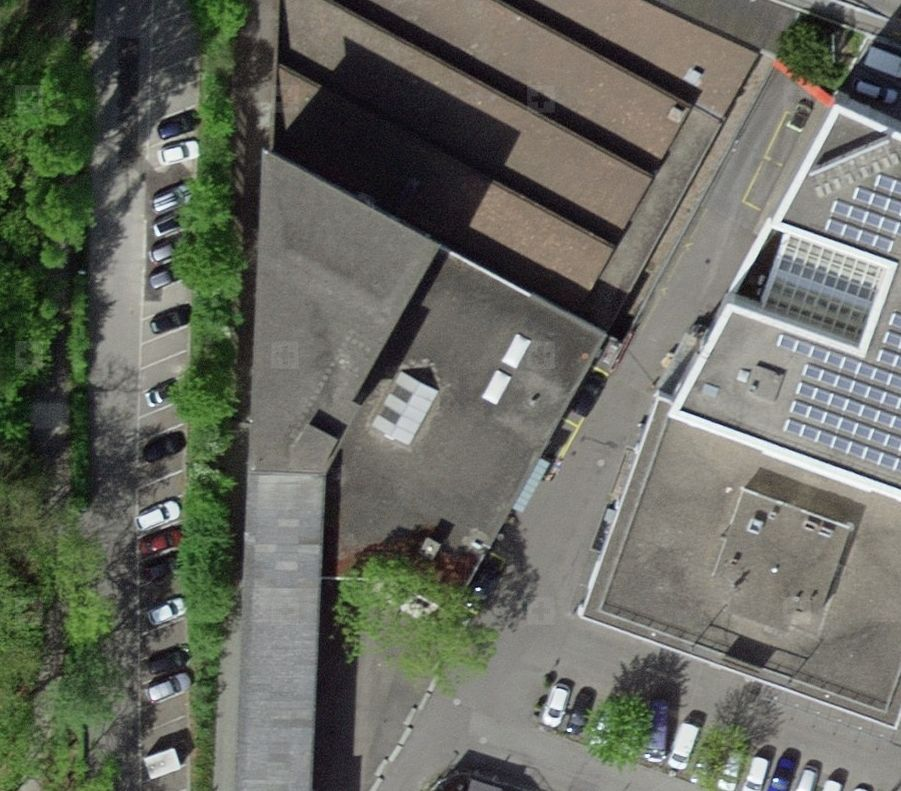solar: (774, 308, 901, 473), (821, 170, 901, 256)
